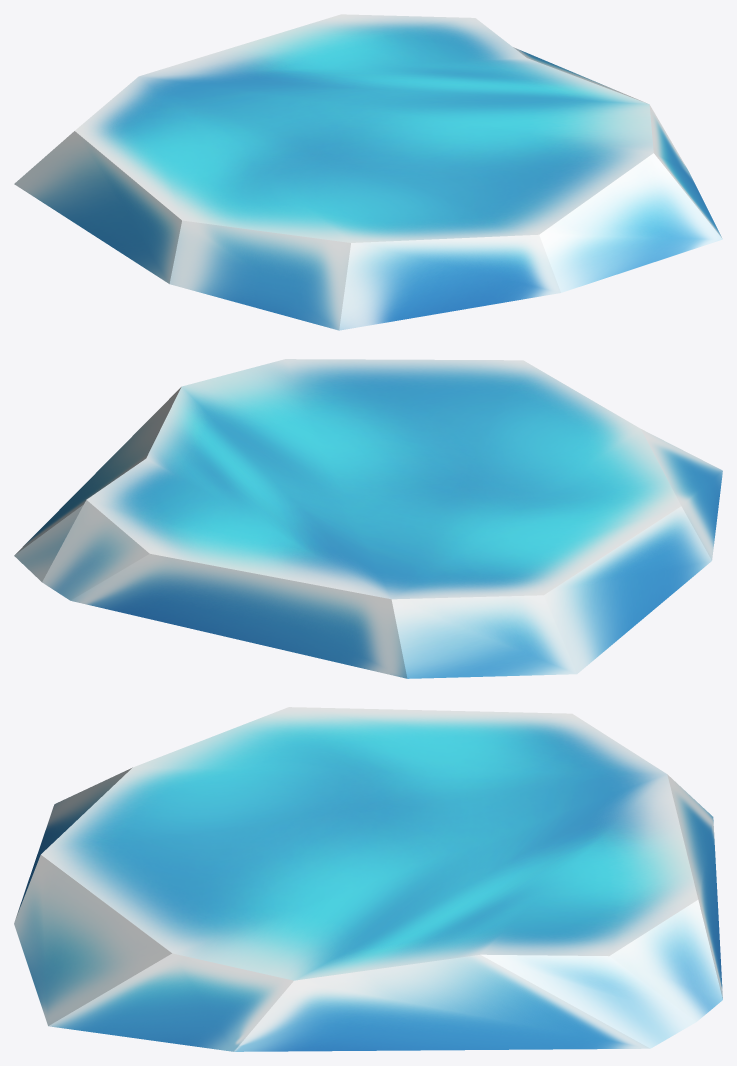
Rendered from Ice02.fbx.
The picture shows the model from 3 angles, top to bottom: view 1: azimuth 30°, elevation 25°; view 2: azimuth 150°, elevation 25°; view 3: azimuth 270°, elevation 25°; orthographic projection. The views are drawn at different scales.
Parts seen in each view (by area): view 1: Circle.003; view 2: Circle.003; view 3: Circle.003.
Part boxes in pixels (x1,y1,x2,y2): Circle.003: (14,14,722,330); Circle.003: (14,359,722,678); Circle.003: (14,707,722,1051).
Bounding box in the file's own units: 103 × 10 × 102.
